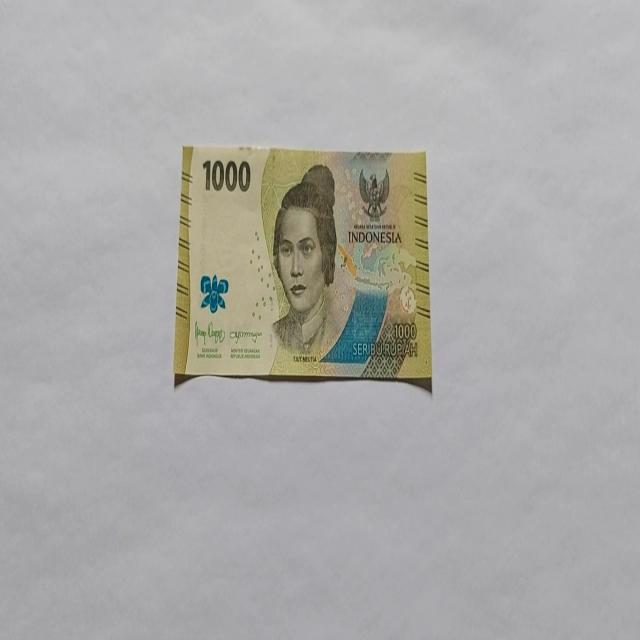seribu rupiah kertas: (172, 143, 432, 389)
